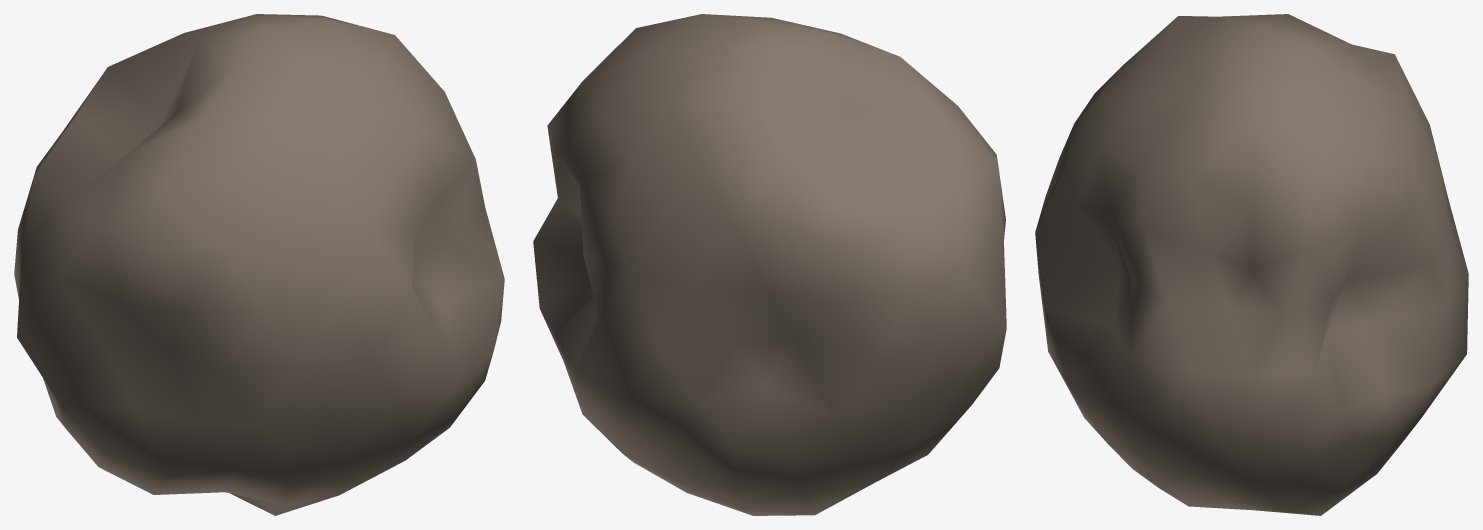
File: asteroid_sml_02.glb
The picture shows the model from 3 angles, left to right: view 1: azimuth 30°, elevation 25°; view 2: azimuth 150°, elevation 25°; view 3: azimuth 270°, elevation 25°; orthographic projection.
Visible parts, largest first — view 1: asteroid_sml_02; view 2: asteroid_sml_02; view 3: asteroid_sml_02.
Part boxes in pixels (box(x1,y1,x2,y2)): asteroid_sml_02: box(14, 14, 504, 515); asteroid_sml_02: box(533, 14, 1006, 515); asteroid_sml_02: box(1035, 14, 1468, 515).
Size of the model in its own units: 2.31 by 2.31 by 1.91.
